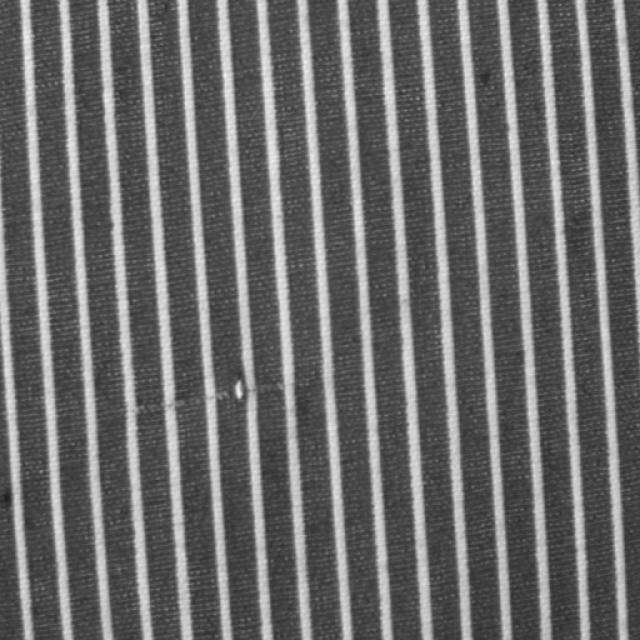Hole-Defect: (122, 376, 321, 420)
